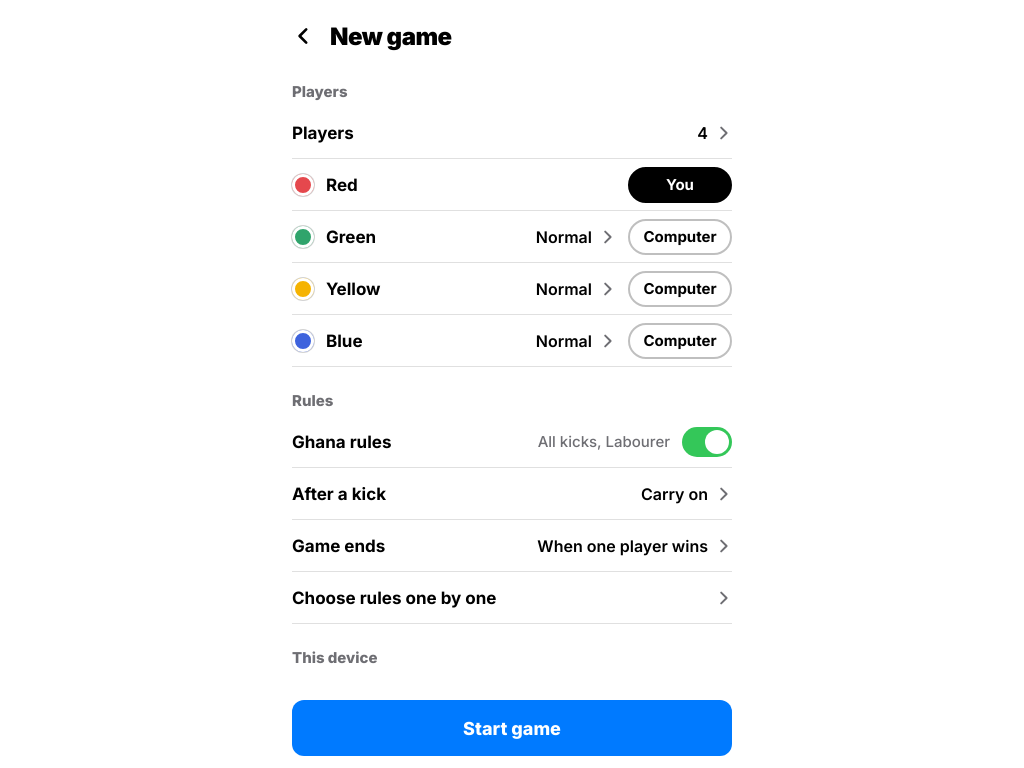
Setup › seats › each computer has a level, normal unless picked; people have none
Later steps or results of the test are not shown.
Step 1. Click the button with aria-label "Green computer level: Normal" → {"x": 572, "y": 236}, box [528,218,616,254]
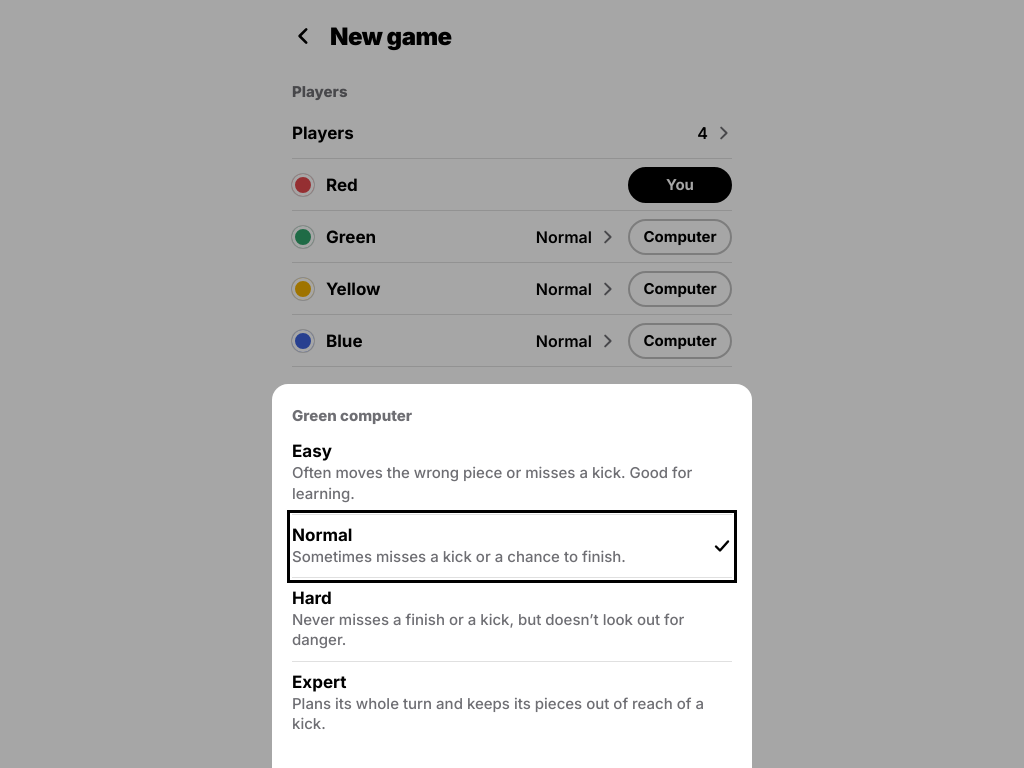
expect the dialog "Green computer" shows "Plans its whole turn": met
Step 2. Click the radio button labelled "Expert" → {"x": 512, "y": 703}, box [292,662,732,744]
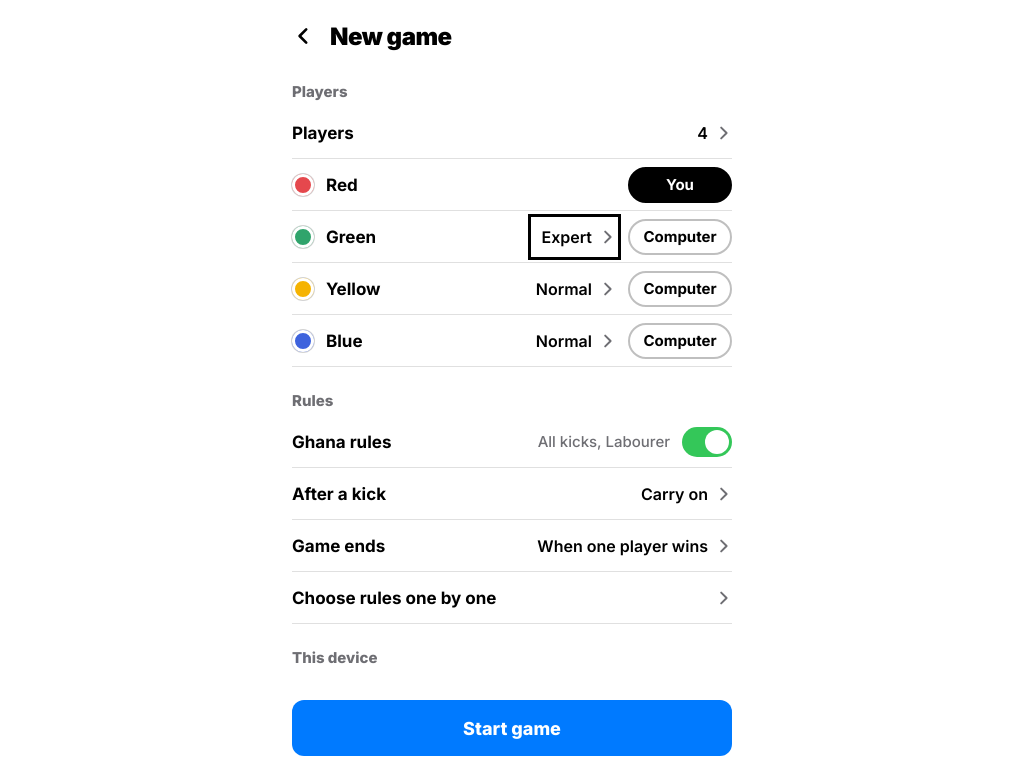
expect the dialog is gone: met
Step 3. Click the button with aria-label "Blue computer level: Normal" → {"x": 572, "y": 340}, box [528,322,616,358]
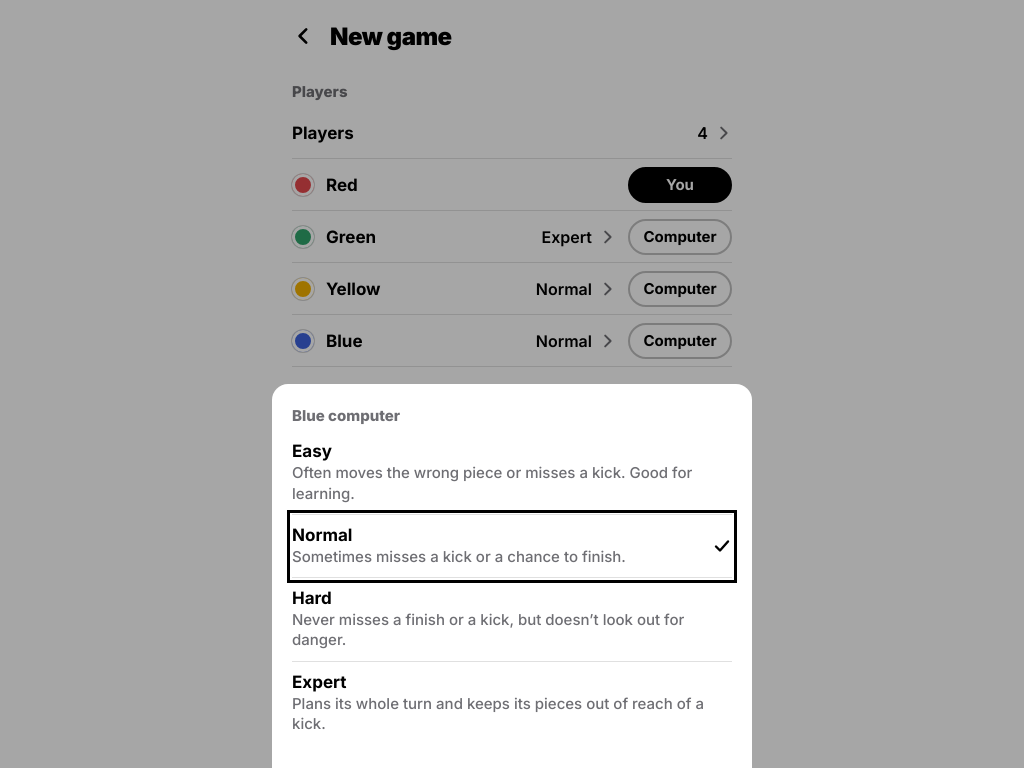
Step 4. Click the radio button labelled "Easy" → {"x": 512, "y": 473}, box [292,431,732,515]
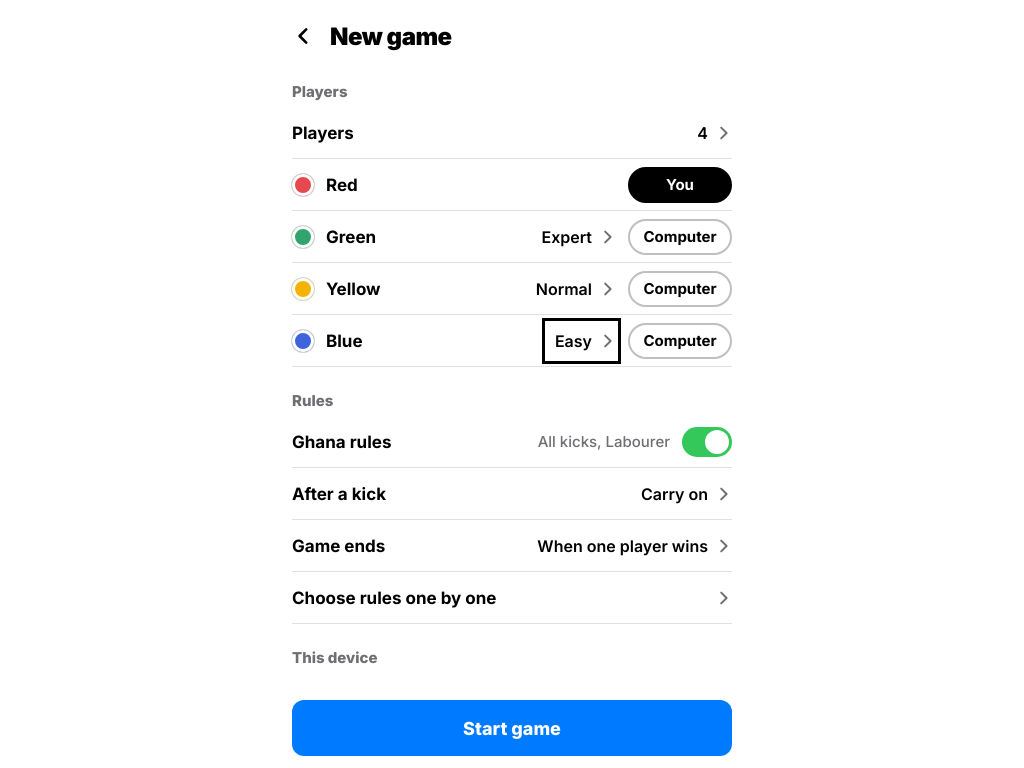
expect the button with aria-label "Green computer level: Expert" reads "Expert": met, box [534,218,616,254]
